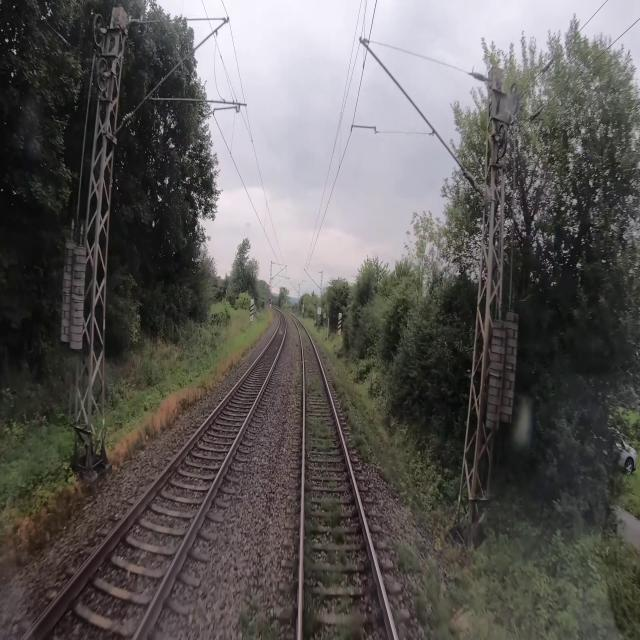Plant: (321, 341, 411, 505), (301, 391, 317, 639), (413, 572, 453, 639), (237, 599, 274, 639), (334, 602, 365, 639), (396, 538, 422, 576), (320, 490, 346, 526), (312, 415, 334, 451), (325, 548, 349, 571), (310, 374, 323, 396)
